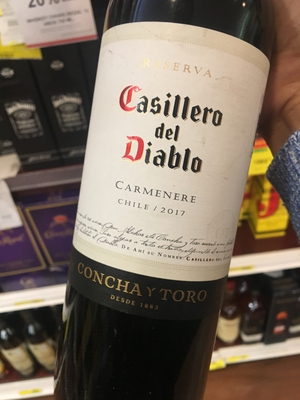casillero del diablo carmenere: (60, 17, 270, 396)
